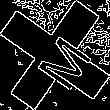M_NW: (21, 22, 89, 88)
